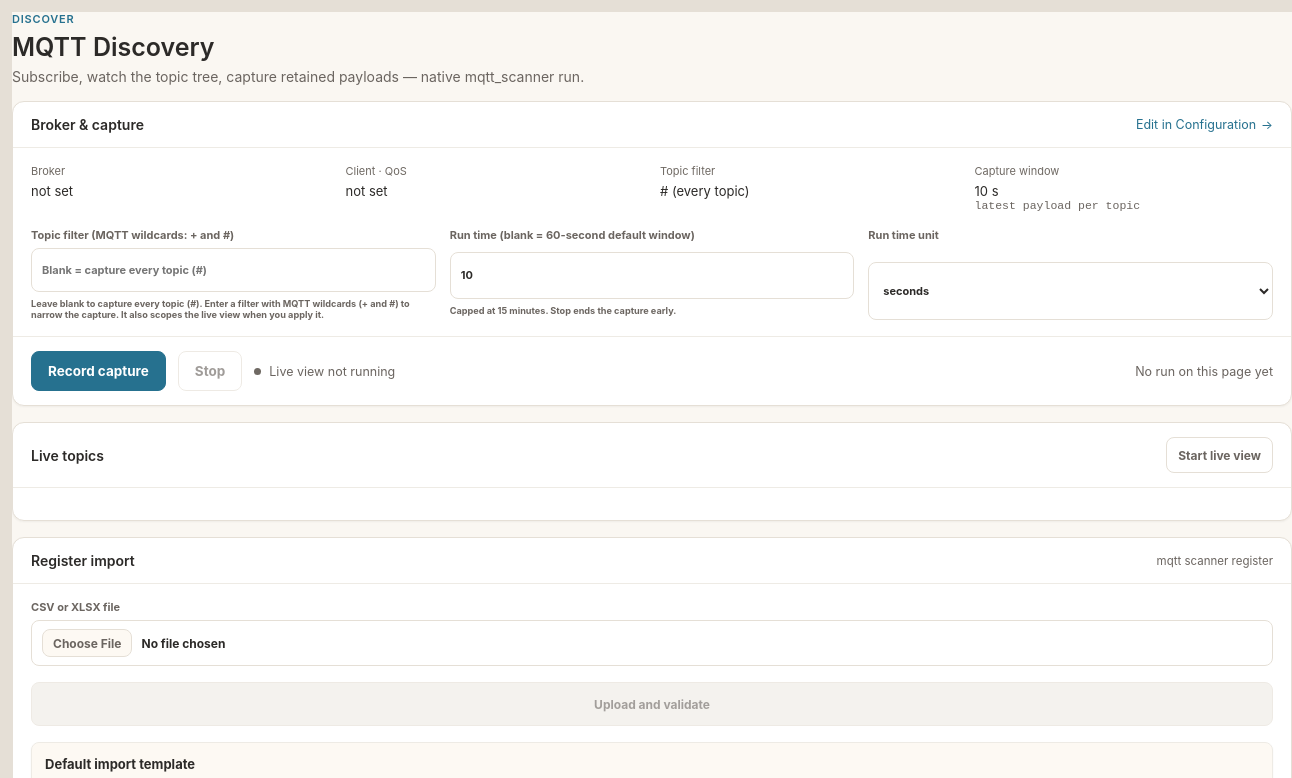
Scenario: MqttScannerPage › blocks a capture over the 15-minute window cap
Replace the text in the field labelled "Run time (blank" with "20": (652, 276) [450, 252, 854, 299]
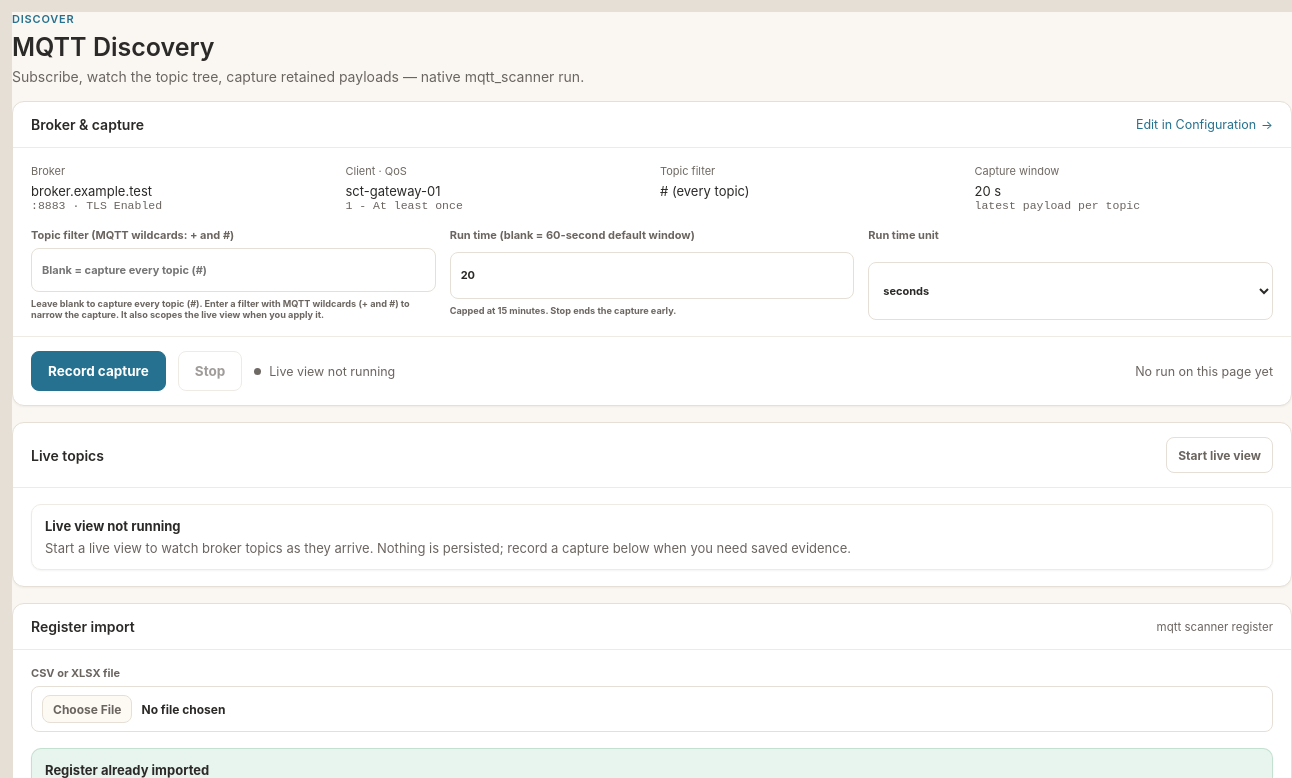
Select "minutes" in the dropdown labelled "Run time unit": (1071, 291) [868, 262, 1273, 320]
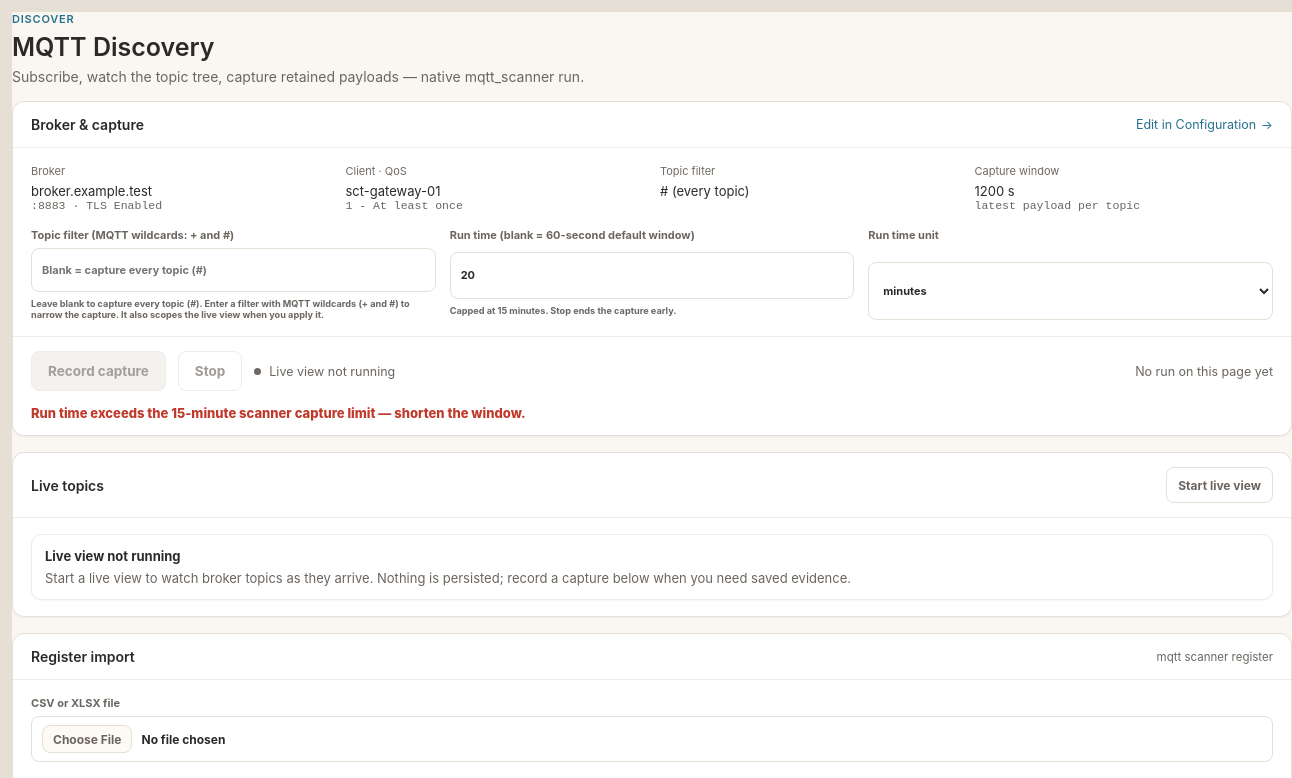
Expected: the button "Record capture" is disabled, [31, 351, 166, 391]
Expected: the message "Run time exceeds the 15-minute scanner capture limit — shorten the window." is shown, [31, 405, 526, 421]
